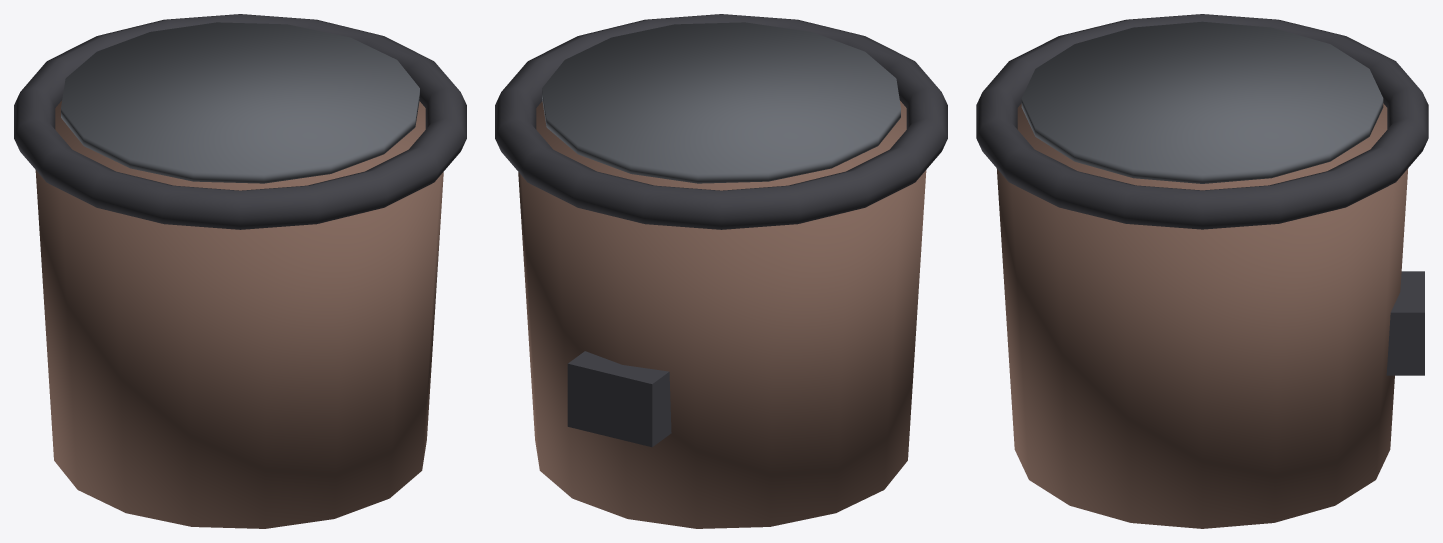
Rendered from prop_shichirin.glb.
3 views of the same model, side by side, from view 1: azimuth 30°, elevation 25°; view 2: azimuth 150°, elevation 25°; view 3: azimuth 270°, elevation 25° (orthographic).
Parts seen in each view (by area): view 1: shichirin; view 2: shichirin; view 3: shichirin.
Boxes of the visible parts, x1,y1,x2,y2 form: shichirin: [14, 14, 466, 528]; shichirin: [495, 14, 947, 528]; shichirin: [976, 14, 1428, 528].
Size of the model in its own units: 0.66 by 0.5575 by 0.65.
